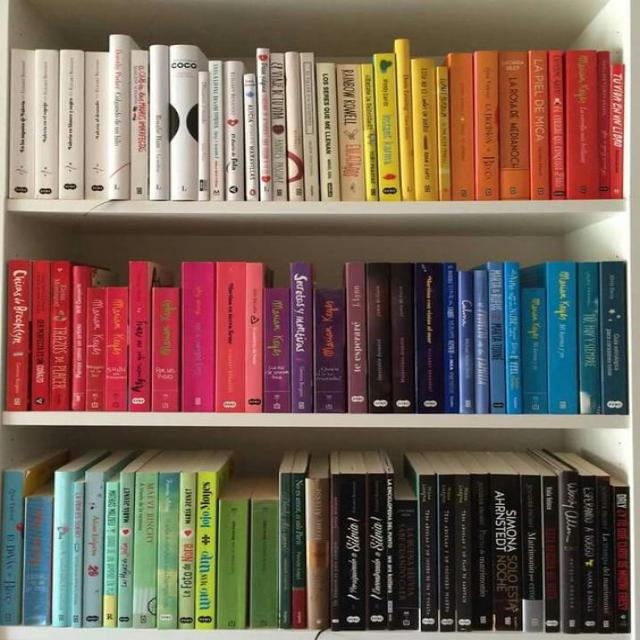book: (567, 51, 599, 199), (183, 262, 214, 411), (547, 262, 577, 414), (500, 52, 530, 199), (494, 474, 521, 630), (216, 262, 244, 412), (170, 45, 197, 200), (601, 262, 628, 414), (415, 262, 442, 412), (314, 287, 346, 412), (337, 64, 366, 200), (374, 54, 400, 201), (152, 287, 181, 412), (368, 263, 392, 412), (392, 263, 416, 412), (60, 50, 84, 198), (85, 51, 109, 199), (412, 59, 437, 200), (220, 499, 247, 628), (10, 48, 33, 198), (476, 51, 499, 200), (451, 52, 474, 200), (342, 474, 364, 628), (579, 262, 601, 414), (252, 500, 278, 627), (129, 261, 151, 411), (523, 475, 544, 632), (135, 471, 156, 627), (36, 50, 58, 198), (264, 288, 290, 412), (291, 263, 312, 413), (307, 479, 328, 628), (418, 475, 438, 631), (26, 498, 50, 626), (395, 39, 414, 200), (318, 63, 340, 201), (523, 288, 547, 412), (158, 472, 177, 628), (110, 35, 128, 199), (224, 61, 245, 200), (562, 470, 580, 632), (347, 262, 366, 413), (8, 261, 27, 411), (50, 260, 69, 410), (284, 52, 303, 200), (301, 53, 320, 201), (106, 287, 128, 411), (198, 472, 215, 628), (455, 475, 472, 631), (474, 474, 491, 630), (85, 472, 102, 626), (367, 474, 384, 628), (151, 46, 168, 200), (3, 472, 20, 624), (489, 262, 506, 414), (396, 500, 416, 628), (531, 50, 548, 200), (270, 54, 287, 202), (544, 476, 560, 632), (582, 477, 598, 632), (54, 472, 70, 626), (506, 262, 522, 414), (549, 50, 565, 200), (246, 263, 262, 412), (32, 262, 48, 411), (131, 50, 147, 198), (439, 474, 454, 631), (257, 47, 272, 200), (443, 263, 458, 413), (362, 64, 378, 201), (600, 476, 614, 632), (180, 473, 194, 628), (292, 473, 306, 628), (615, 486, 629, 632), (119, 472, 132, 627), (459, 272, 473, 413), (88, 287, 104, 410), (104, 482, 117, 626), (475, 270, 488, 413), (244, 74, 258, 200), (438, 66, 451, 199), (280, 472, 291, 628), (72, 266, 84, 409), (211, 61, 223, 200), (599, 51, 610, 198), (611, 64, 622, 198), (332, 473, 341, 628), (72, 481, 81, 626), (199, 71, 209, 200), (386, 474, 394, 628)
